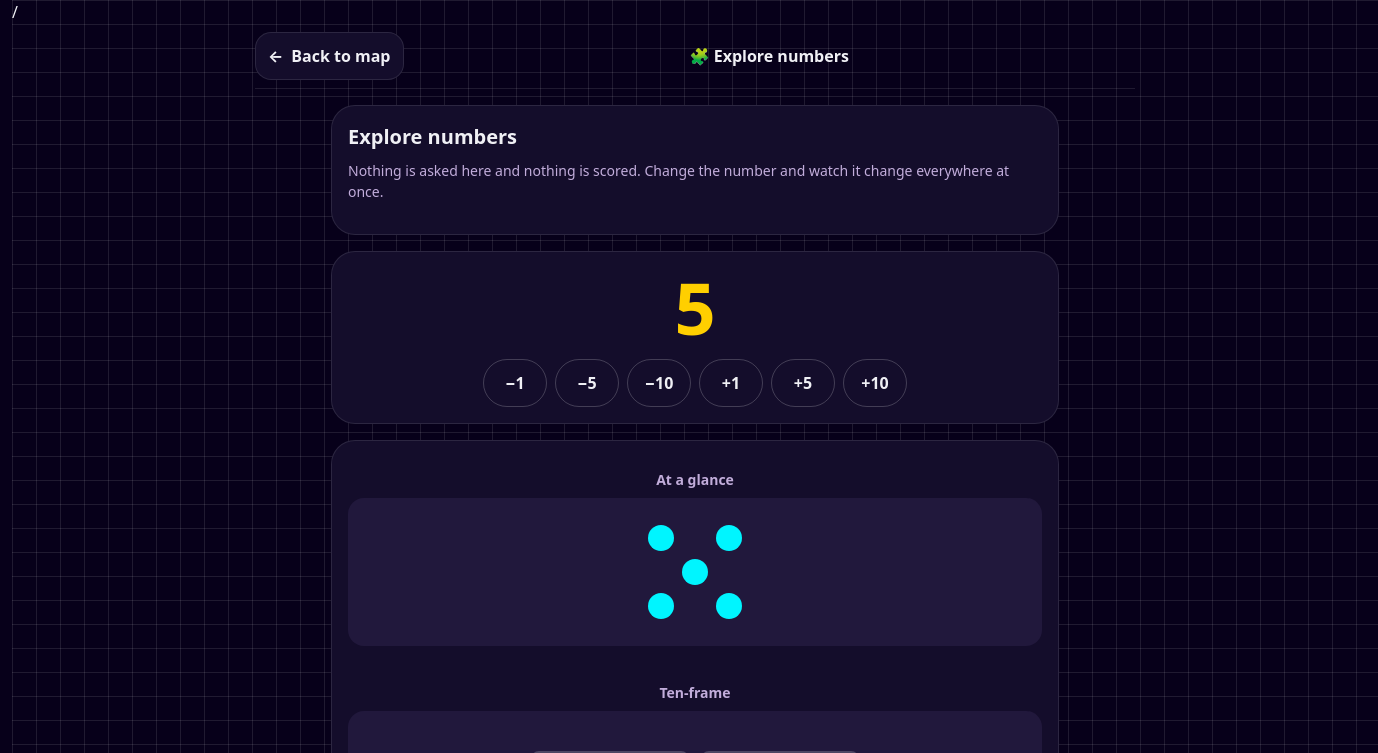
Test: SensePlayPage › moves every representation together when the number changes
This screenshot has width=1378, height=753.
What coordinates should you click on to do the following:
click the button named "5 more"
I would click on:
 (803, 383)
Its box is [771, 359, 835, 407].
(page scrolled)
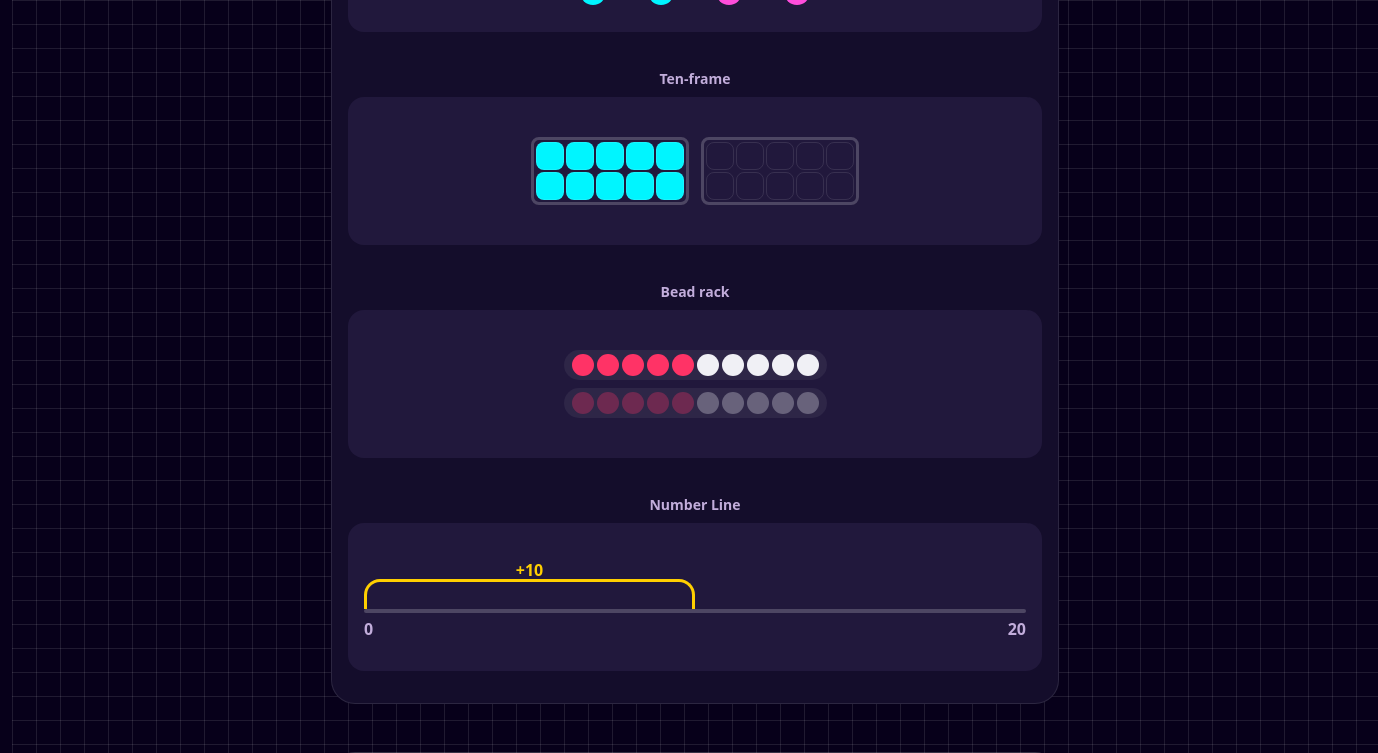
Now the picture named "10 on the ten-frame" is shown, box [348, 97, 1042, 245]
Now the picture named "10 on the bead rack" is shown, box [348, 310, 1042, 458]
